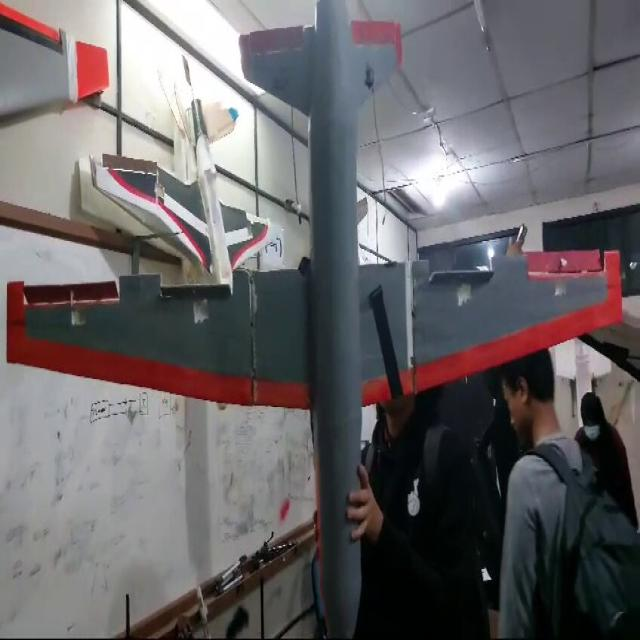plane: (3, 0, 624, 637)
